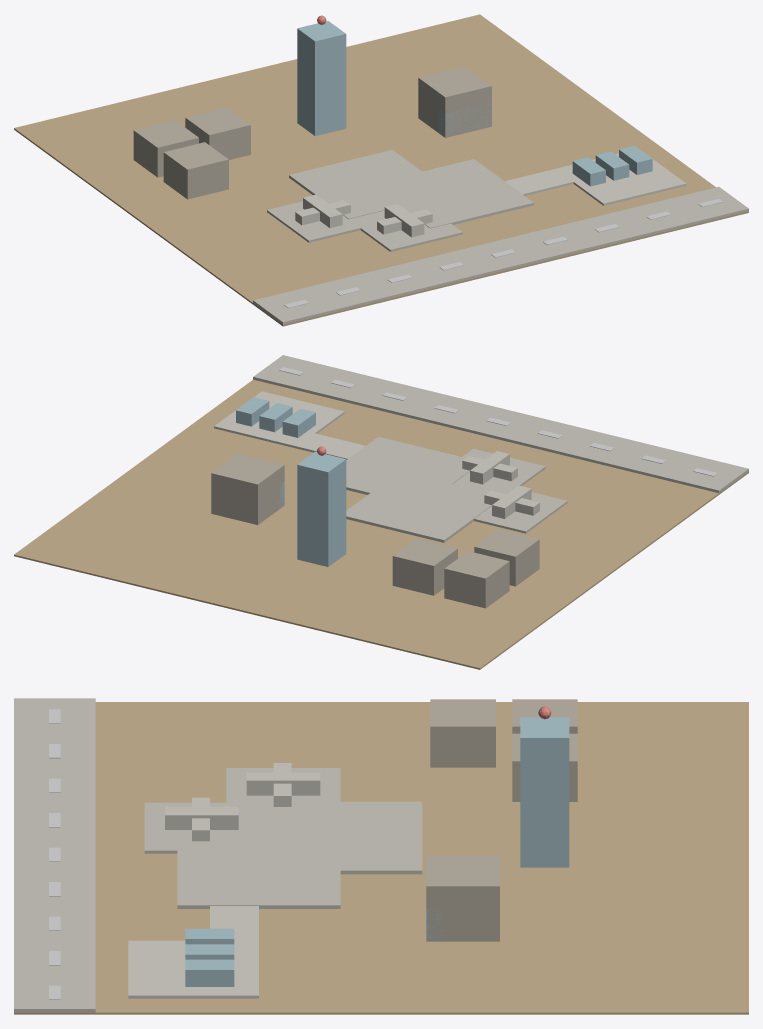
Rendered from stage_11.glb.
3 views of the same model, one above another, from view 1: azimuth 30°, elevation 25°; view 2: azimuth 150°, elevation 25°; view 3: azimuth 270°, elevation 25° (orthographic). The views are drawn at different scales.
Visible parts, largest first — view 1: geometry_0; view 2: geometry_0; view 3: geometry_0.
Boxes of the visible parts, x1=… form: geometry_0: x1=14, y1=14, x2=748, y2=326; geometry_0: x1=14, y1=355, x2=748, y2=669; geometry_0: x1=14, y1=698, x2=748, y2=1014.
Size of the model in its own units: 9 by 2.06 by 9.
